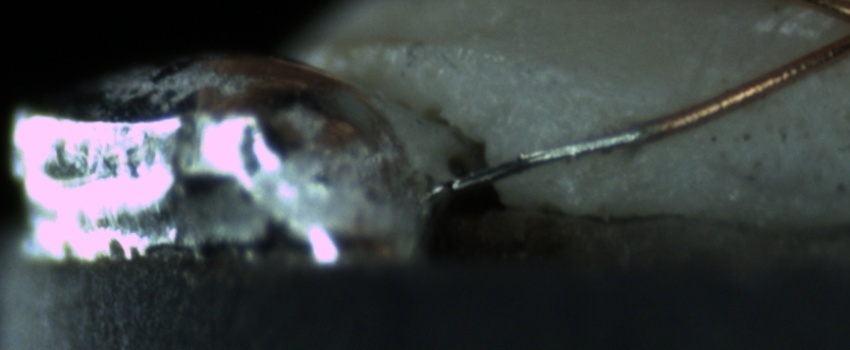TS: (439, 125, 648, 191)
